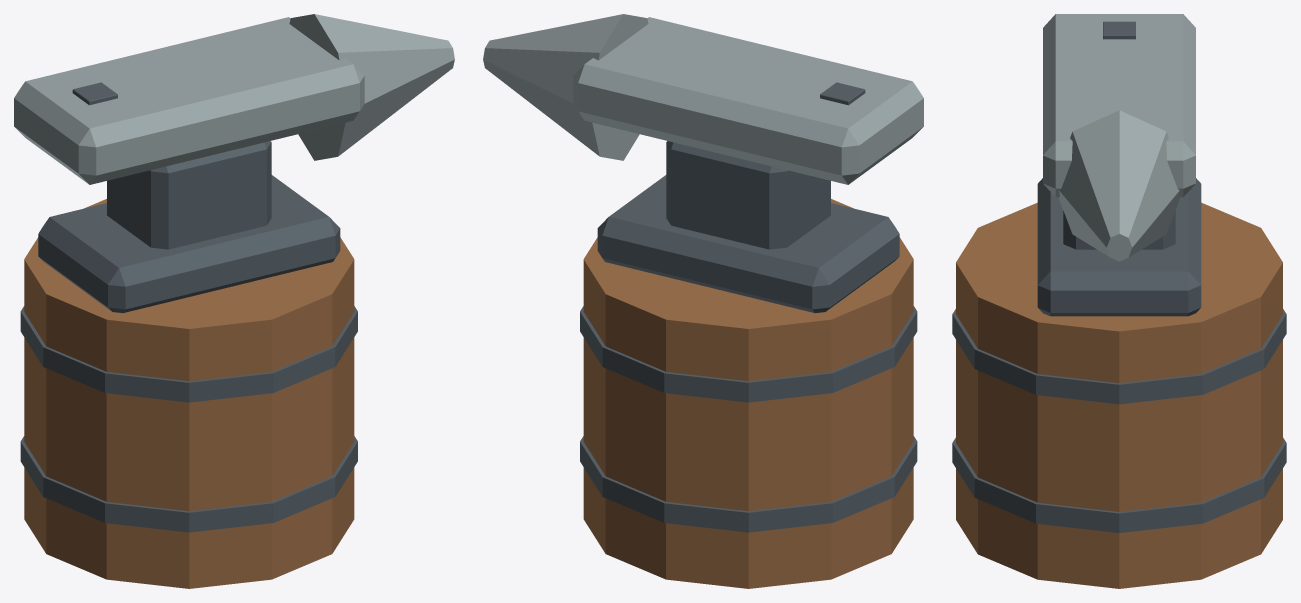
The model's file is smith_anvil.glb.
3 views of the same model, side by side, from view 1: azimuth 30°, elevation 25°; view 2: azimuth 150°, elevation 25°; view 3: azimuth 270°, elevation 25° (orthographic).
Visible parts, largest first — view 1: smith_anvil; view 2: smith_anvil; view 3: smith_anvil.
Part boxes in pixels (x1,y1,x2,y2): smith_anvil: [14, 14, 454, 588]; smith_anvil: [483, 14, 923, 588]; smith_anvil: [952, 14, 1286, 588].
Size of the model in its own units: 0.7506 by 0.84 by 0.5412.
